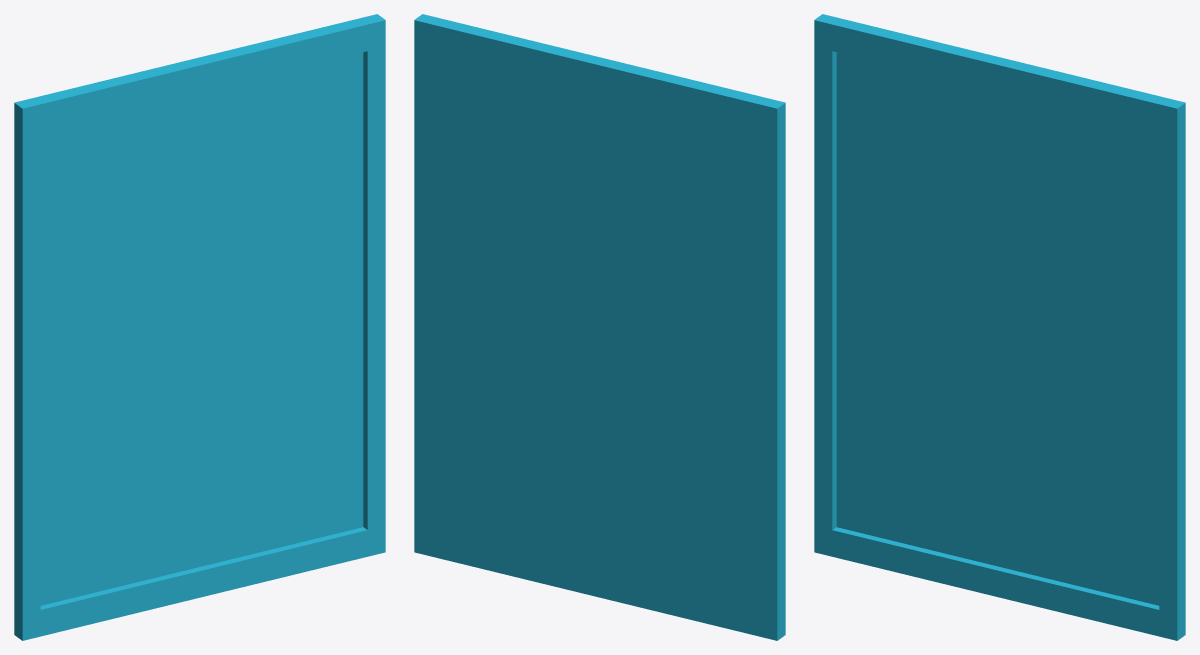
File: tablo.fbx
The picture shows the model from 3 angles, left to right: view 1: azimuth 30°, elevation 25°; view 2: azimuth 150°, elevation 25°; view 3: azimuth 330°, elevation 25°; orthographic projection.
Parts seen in each view (by area): view 1: PAINTING; view 2: PAINTING; view 3: PAINTING.
Part boxes in pixels (x1,y1,x2,y2): PAINTING: (14,14,385,640); PAINTING: (414,14,785,640); PAINTING: (814,14,1185,640).
Size of the model in its own units: 50 by 70 by 2.
